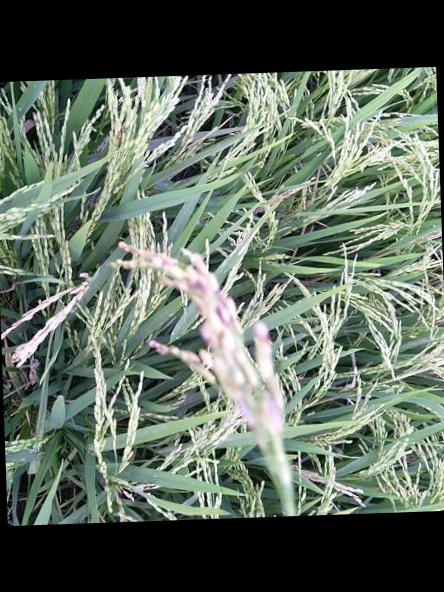Panicle Blight: (117, 240, 283, 449)
